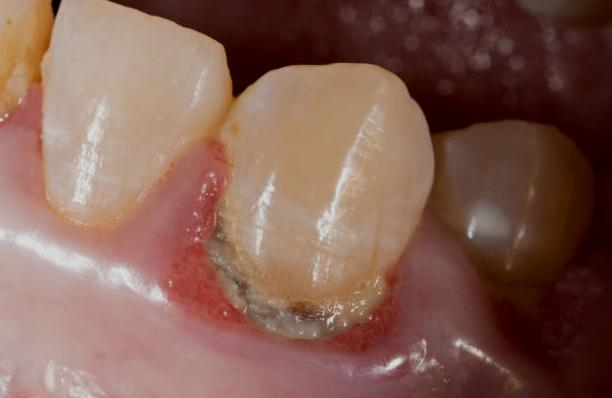Calculus: (173, 70, 419, 368)
